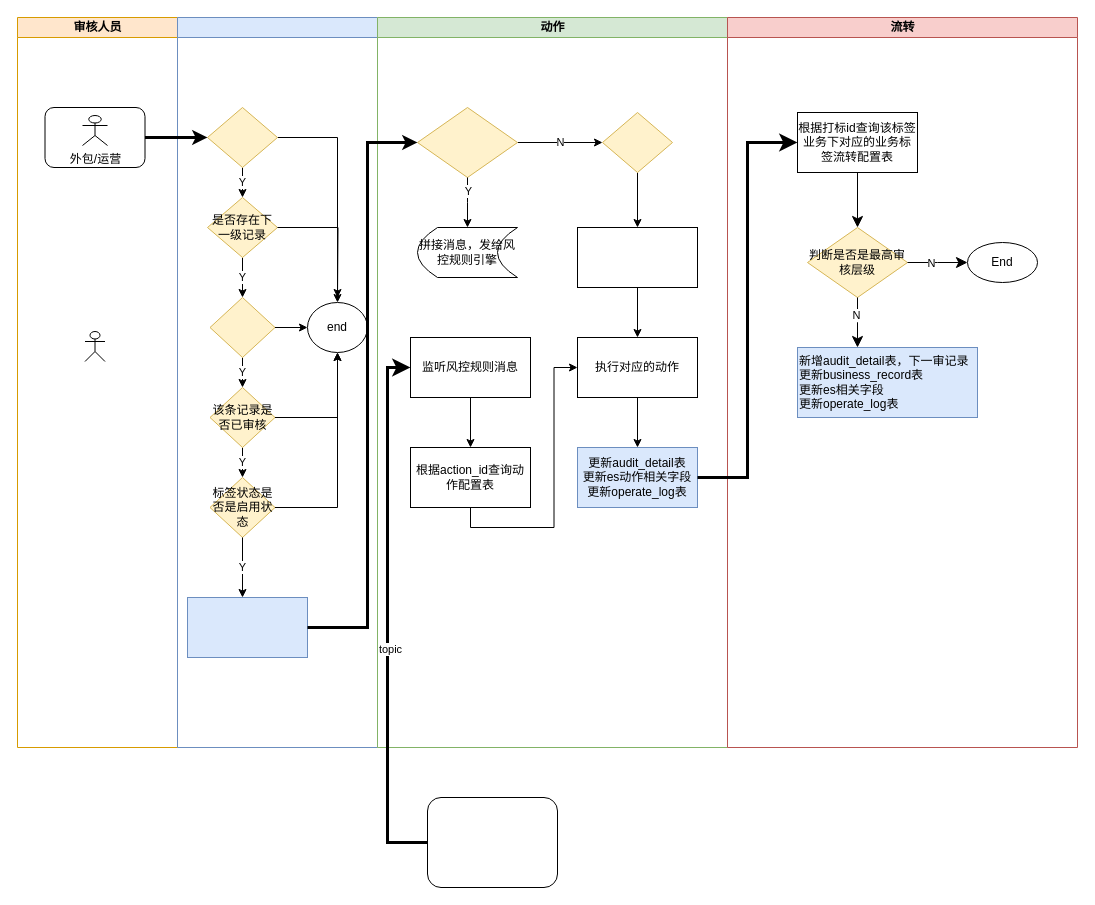
Image size: 1095x905. Some labels were removed from this diagram. The shapes that lost their labels are listed below. From the top down, each one's box as (x1, y1, x2, y2) in pixels, then its label:
(206, 106, 278, 168): 查询该记录是否存在
(416, 106, 518, 178): 查询该业务配置是否要过风控规则引擎
(602, 112, 672, 172): 动作参数校验
(576, 226, 698, 288): 根据打标id查询该标签业务下对应的动作，若有多个动作，获取高优先级的动作配置
(84, 330, 105, 362): oms运营
(209, 296, 275, 358): 标签是否为空
(176, 16, 378, 748): 打标
(186, 596, 308, 658): 更新audit_detail表 更新es 更新operate_log表
(426, 796, 558, 888): 风控规则引擎
